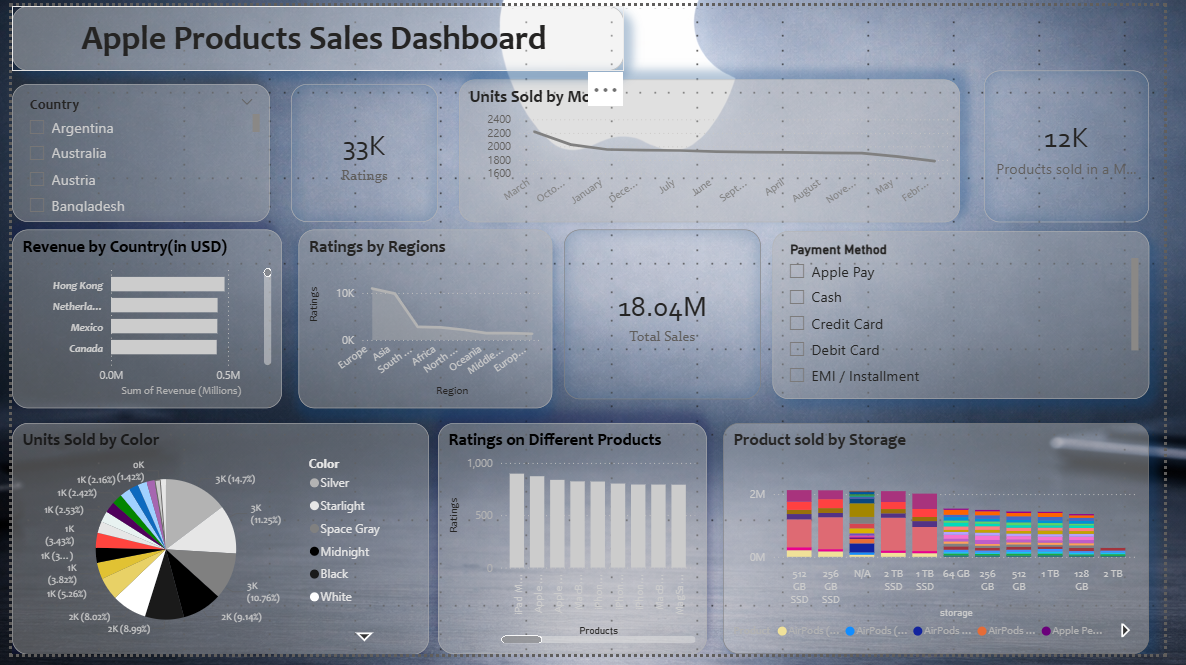

What the dashboard file says about the page in this screenshot:
{"tool":"powerbi","page":{"name":"Page 1","canvas":[1280,720],"ordinal":0},"visuals":[{"type":"barChart","title":"Revenue by Country(in USD)","fields":{"Y":["Sum(apple_global_sales_dataset.revenue_usd)"],"Category":["apple_global_sales_dataset.country"]},"box":[0,248.3,300,198.3],"z":0},{"type":"card","fields":{"Values":["apple_global_sales_dataset.total"]},"box":[613.3,248.3,218.3,188.3],"z":1000},{"type":"pieChart","title":"Units Sold by Color","fields":{"Category":["apple_global_sales_dataset.color"],"Y":["Sum(apple_global_sales_dataset.units_sold)"]},"box":[0,463.1,463.1,257.5],"z":2000},{"type":"lineChart","title":"Units Sold by Month","fields":{"Y":["Sum(apple_global_sales_dataset.units_sold)"],"Category":["apple_global_sales_dataset.month"]},"box":[496.7,81.7,556.7,158.3],"z":3000},{"type":"columnChart","title":"Ratings on Different Products","fields":{"Y":["Sum(apple_global_sales_dataset.customer_rating)"],"Category":["apple_global_sales_dataset.product_name"]},"box":[473.3,463.3,298.3,256.7],"z":4000},{"type":"card","fields":{"Values":["apple_global_sales_dataset.Ratings"]},"box":[310,86.7,163.3,153.3],"z":5000},{"type":"areaChart","title":"Ratings by Regions","fields":{"Category":["apple_global_sales_dataset.region"],"Y":["Sum(apple_global_sales_dataset.customer_rating)"]},"box":[318.3,248.3,281.7,198.3],"z":6000},{"type":"lineStackedColumnComboChart","title":"Product sold by Storage","fields":{"Y":["apple_global_sales_dataset.Total Sales"],"Category":["apple_global_sales_dataset.storage"],"Series":["apple_global_sales_dataset.product_name"]},"box":[790,463.3,473.3,256.7],"z":7000},{"type":"card","fields":{"Values":["apple_global_sales_dataset.C"]},"box":[1080,71.7,183.3,168.3],"z":8000},{"type":"textbox","box":[0,0,680,71.7],"z":9000},{"type":"slicer","fields":{"Values":["apple_global_sales_dataset.country"]},"box":[0,86.7,286.7,153.3],"z":10000},{"type":"slicer","fields":{"Values":["apple_global_sales_dataset.payment_method"]},"box":[845,250,418.3,186.7],"z":11000}]}

Visuals, with their boxes in screenshot pixels (x1, y1, x2, y2), scaled from the page's 1280x720 canvas onto the 1186x665 screenshot:
"Revenue by Country(in USD)" barChart: box=[0, 229, 278, 412]
card - apple_global_sales_dataset.total: box=[568, 229, 771, 403]
"Units Sold by Color" pieChart: box=[0, 428, 429, 664]
"Units Sold by Month" lineChart: box=[460, 75, 976, 222]
"Ratings on Different Products" columnChart: box=[439, 428, 715, 664]
card - apple_global_sales_dataset.Ratings: box=[287, 80, 439, 222]
"Ratings by Regions" areaChart: box=[295, 229, 556, 412]
"Product sold by Storage" lineStackedColumnComboChart: box=[732, 428, 1171, 664]
card - apple_global_sales_dataset.C: box=[1001, 66, 1171, 222]
textbox: box=[0, 0, 630, 66]
slicer - apple_global_sales_dataset.country: box=[0, 80, 266, 222]
slicer - apple_global_sales_dataset.payment_method: box=[783, 231, 1171, 403]
